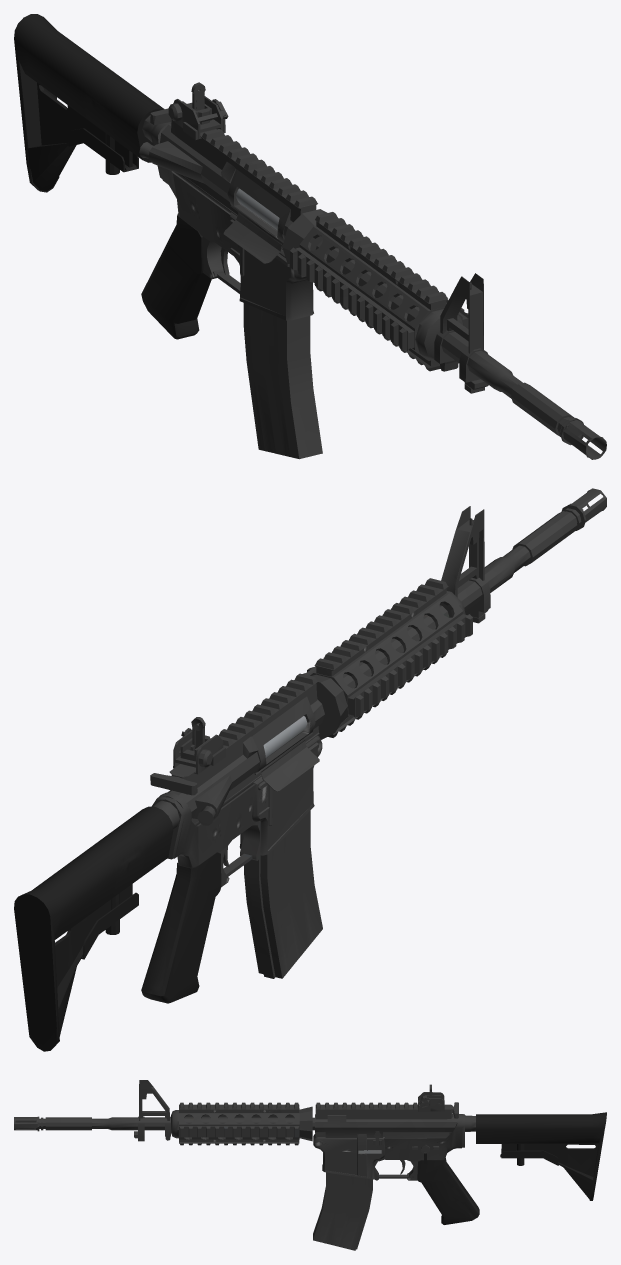
File: rifle.glb
3 views of the same model, one above another, from view 1: azimuth 30°, elevation 25°; view 2: azimuth 150°, elevation 25°; view 3: azimuth 270°, elevation 25° (orthographic). The views are drawn at different scales.
Parts seen in each view (by area): view 1: rifle; view 2: rifle; view 3: rifle.
Part boxes in pixels (bbox=[...]): rifle: bbox=[14, 14, 606, 459]; rifle: bbox=[14, 488, 606, 1051]; rifle: bbox=[14, 1080, 606, 1250].
Bounding box in the file's own units: 0.0592 × 0.248 × 0.8003.
Materials: 1 (1 with a texture image).
